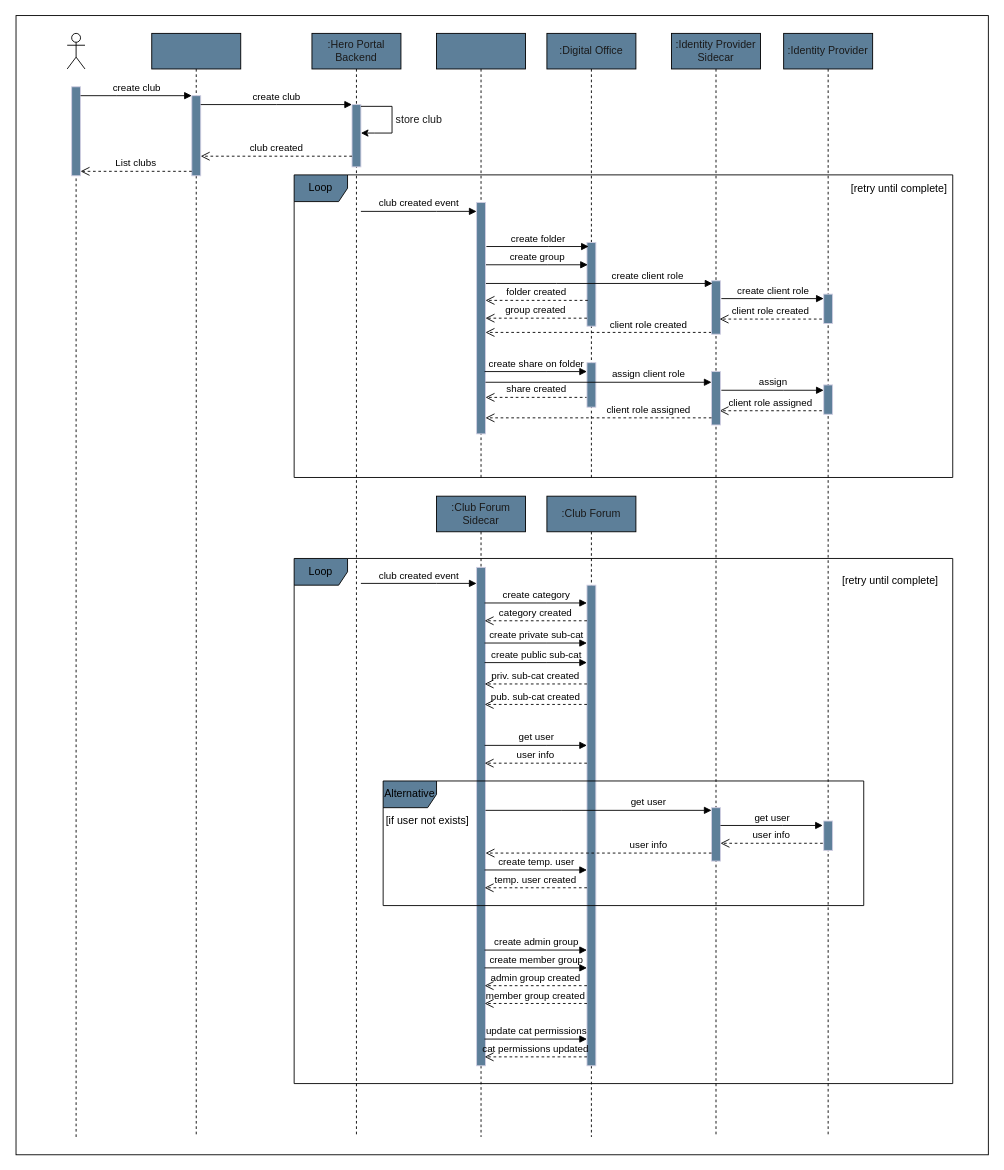
This 1004x1170 diagram has some shape labels left out. Each missing label, with the box of its shape:
:Digital Office Sidecar: (436, 32, 526, 478)
:Hero Portal Web UI: (151, 32, 241, 1137)
Club Admin: (66, 32, 85, 69)
